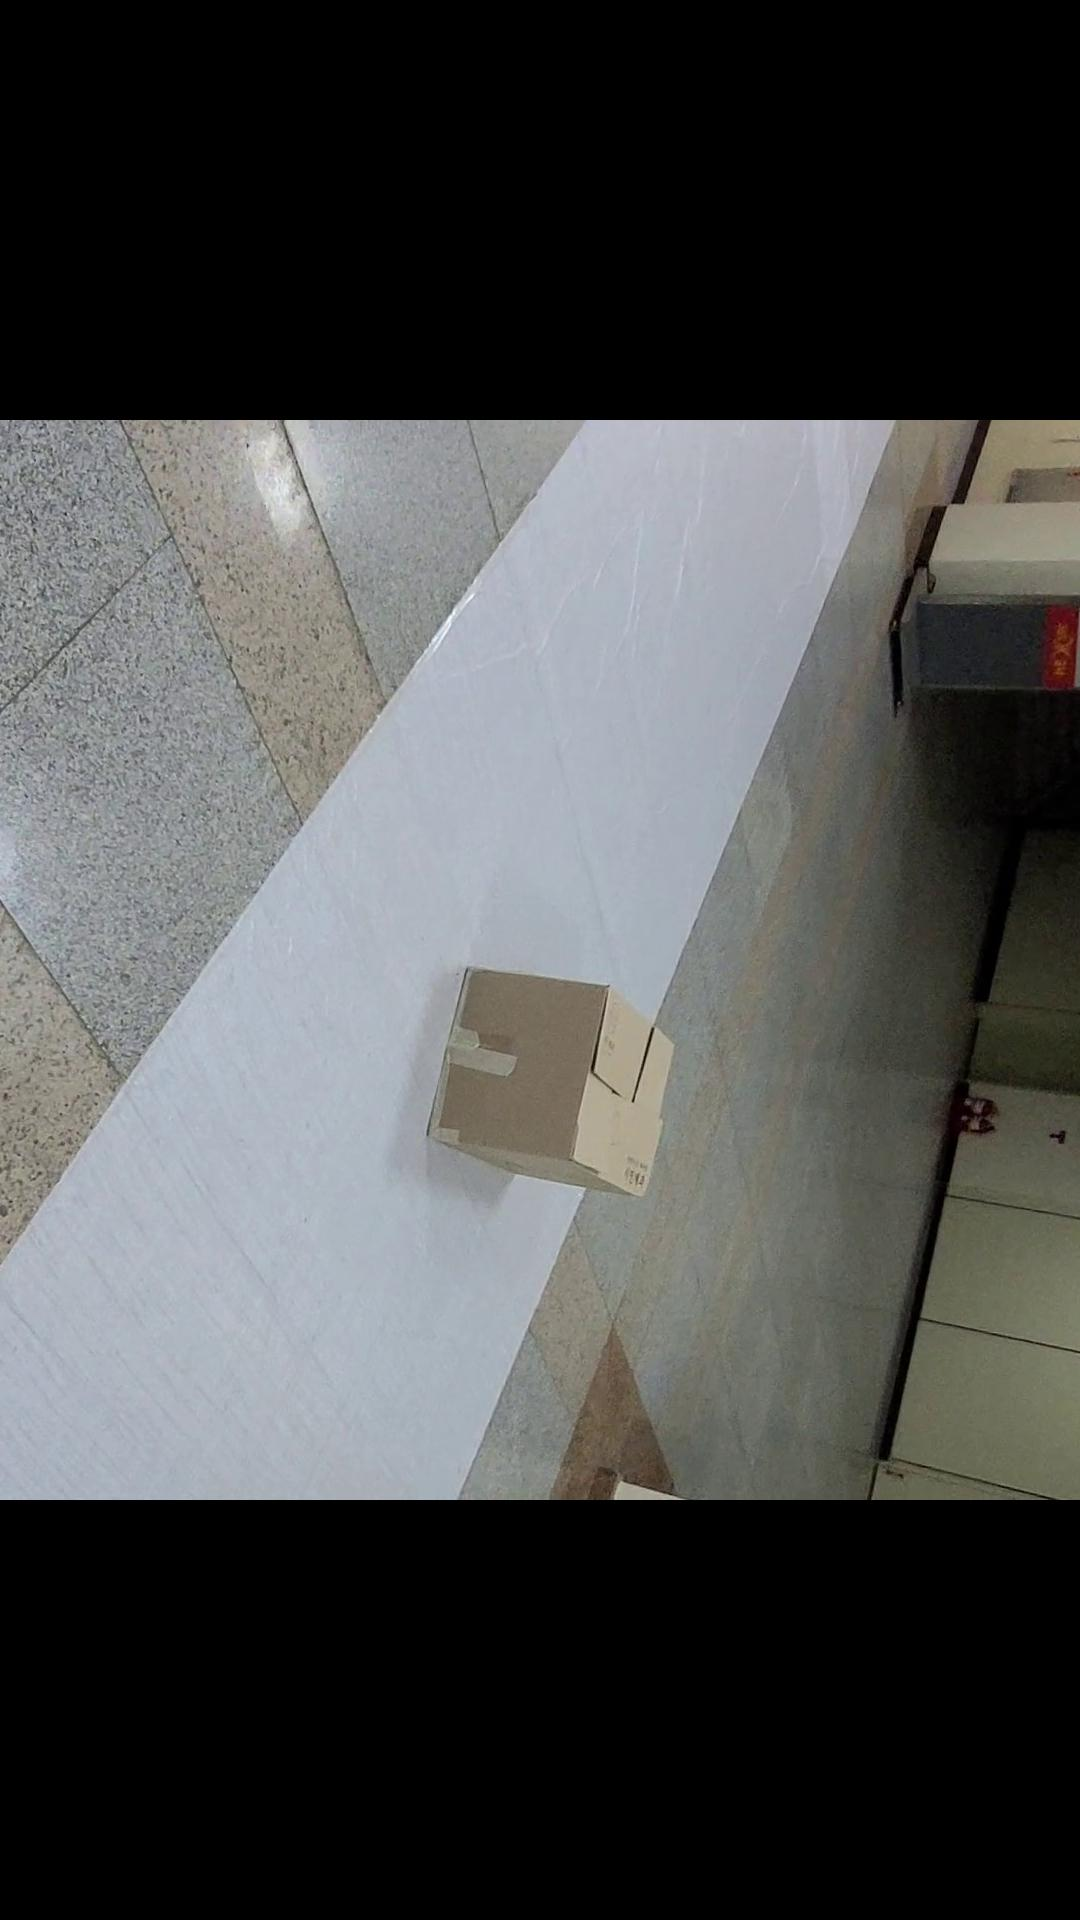Box: (377, 934, 673, 1249)
